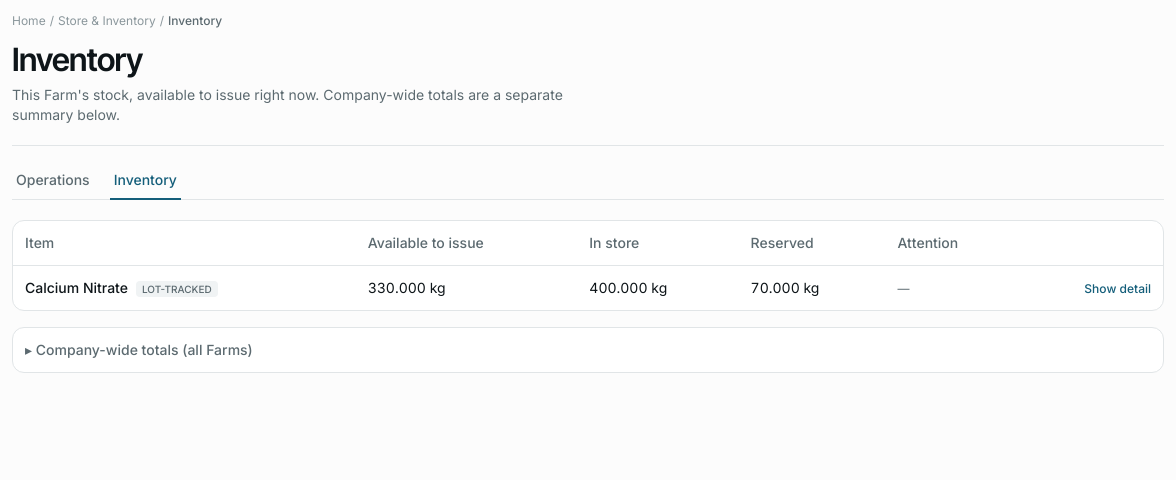
it: StoreInventoryInventoryPage › keeps company-wide Exists/Usable in a separate, collapsed-by-default section
Check: the text "Calcium Nitrate" is shown, box [25, 279, 128, 296]
Check: the text "500.000 kg" is not shown
Click the button "▸ Company-wide totals (all Farms)" at (142, 349), box [13, 328, 1163, 372]
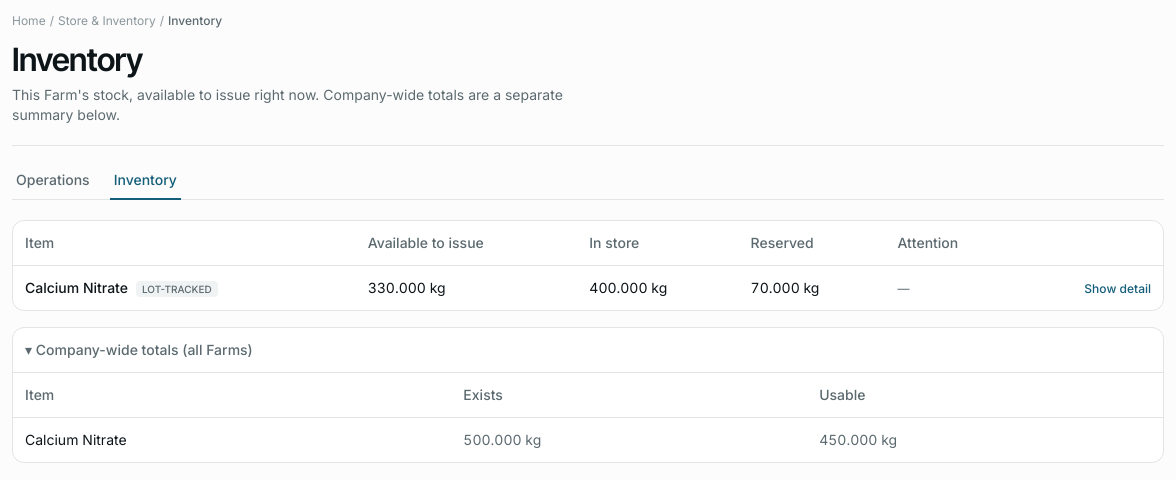
Check: the text "500.000 kg" is shown, box [451, 417, 807, 462]
Check: the text "450.000 kg" is shown, box [807, 417, 1163, 462]
